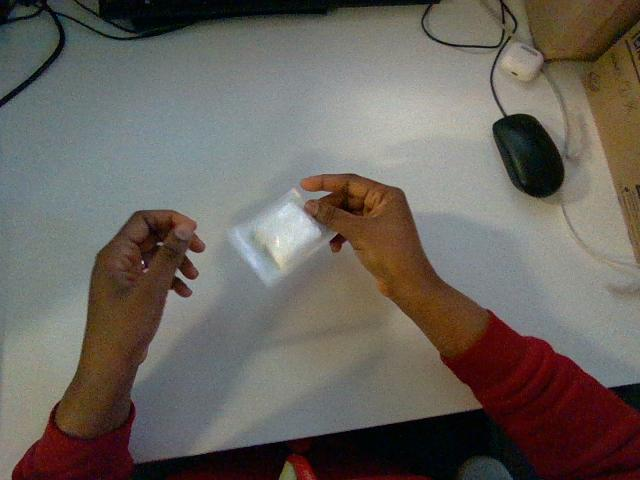gauze: (229, 189, 334, 285)
